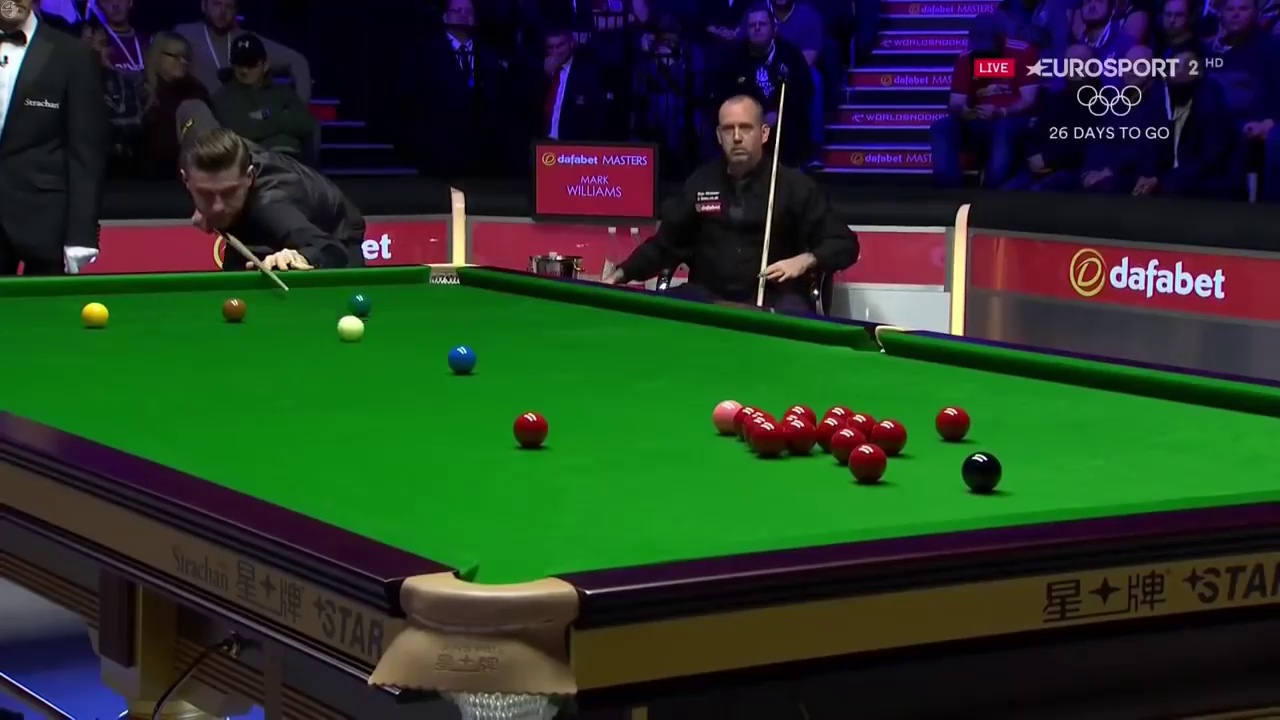black: (958, 451, 1003, 494)
blue: (448, 343, 478, 373)
brown: (222, 297, 249, 326)
green: (348, 291, 372, 313)
pink: (712, 399, 734, 435)
red: (782, 417, 819, 456), (932, 402, 970, 439), (512, 411, 548, 445), (852, 446, 886, 482), (873, 415, 906, 451), (750, 421, 783, 455)
white: (334, 316, 367, 343)
yellow: (77, 300, 109, 327)
